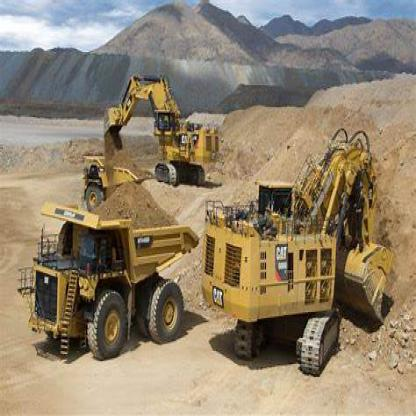dump_truck: (21, 179, 204, 377), (71, 145, 161, 231)
excavator: (198, 118, 398, 383), (96, 58, 226, 195)
